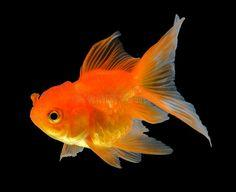goldfish: (21, 38, 219, 172)
